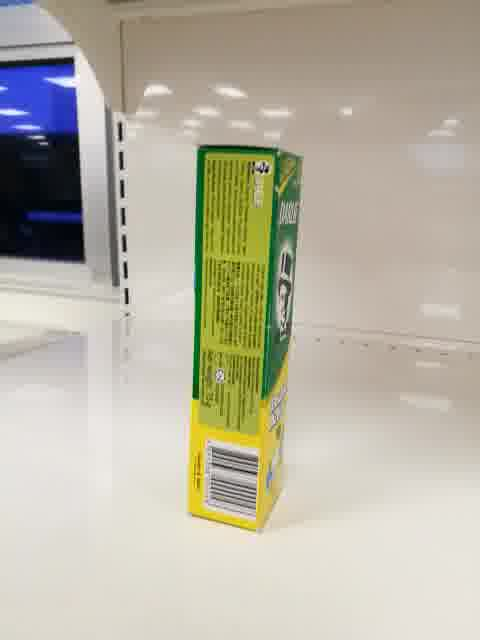toothpaste: (186, 146, 303, 535)
